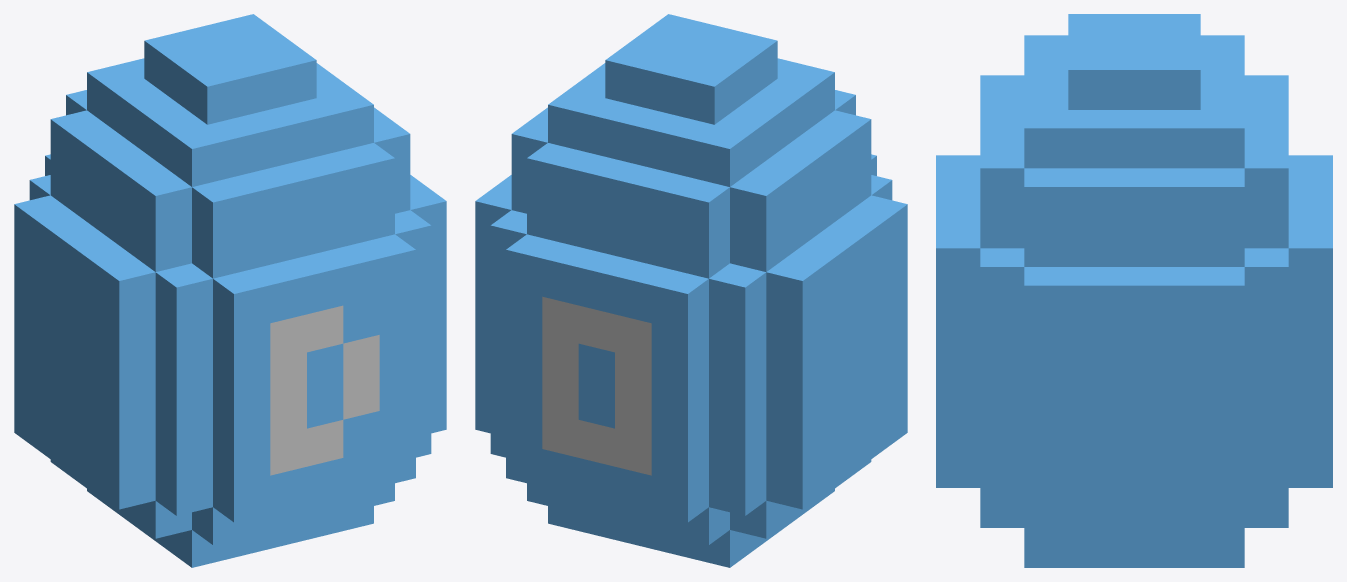
3 views of the same model, side by side, from view 1: azimuth 30°, elevation 25°; view 2: azimuth 150°, elevation 25°; view 3: azimuth 270°, elevation 25° (orthographic). The views are drawn at different scales.
Parts seen in each view (by area): view 1: 44; view 2: 44; view 3: 44.
Boxes of the visible parts, box(x1,y1,x2,y2) form: 44: box(14, 14, 446, 567); 44: box(475, 14, 907, 567); 44: box(936, 14, 1332, 567).
Size of the model in its own units: 0.9 by 1.2 by 0.9.
Materials: 1 (1 with a texture image).
